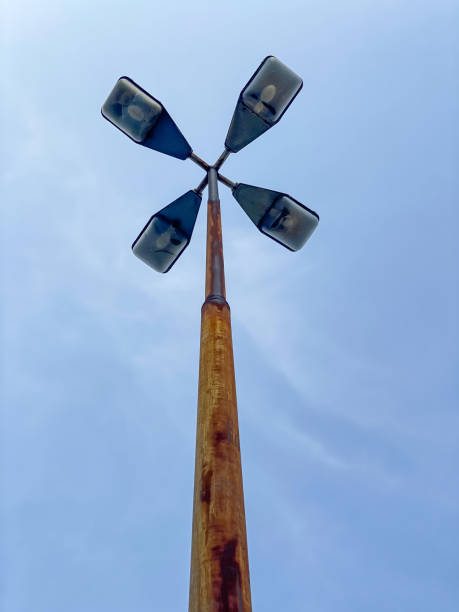light_pole: (190, 205, 248, 612)
